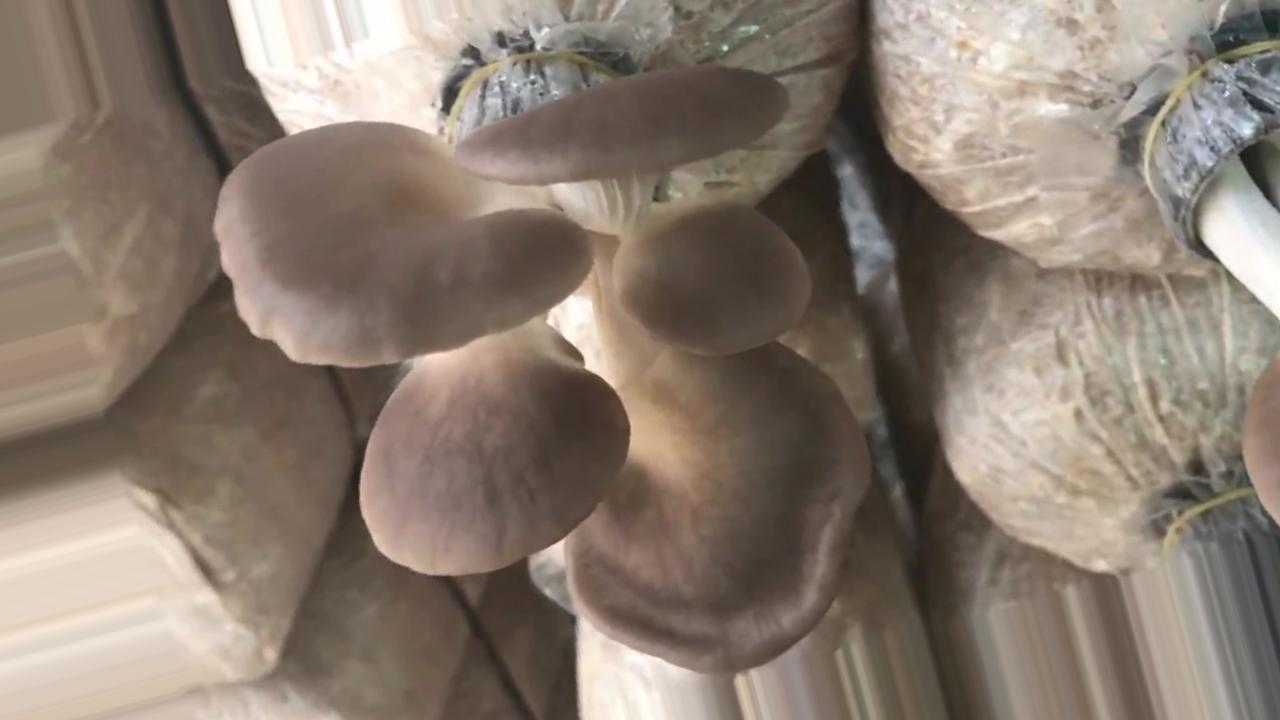nam: (217, 31, 874, 675), (1156, 15, 1280, 524)
